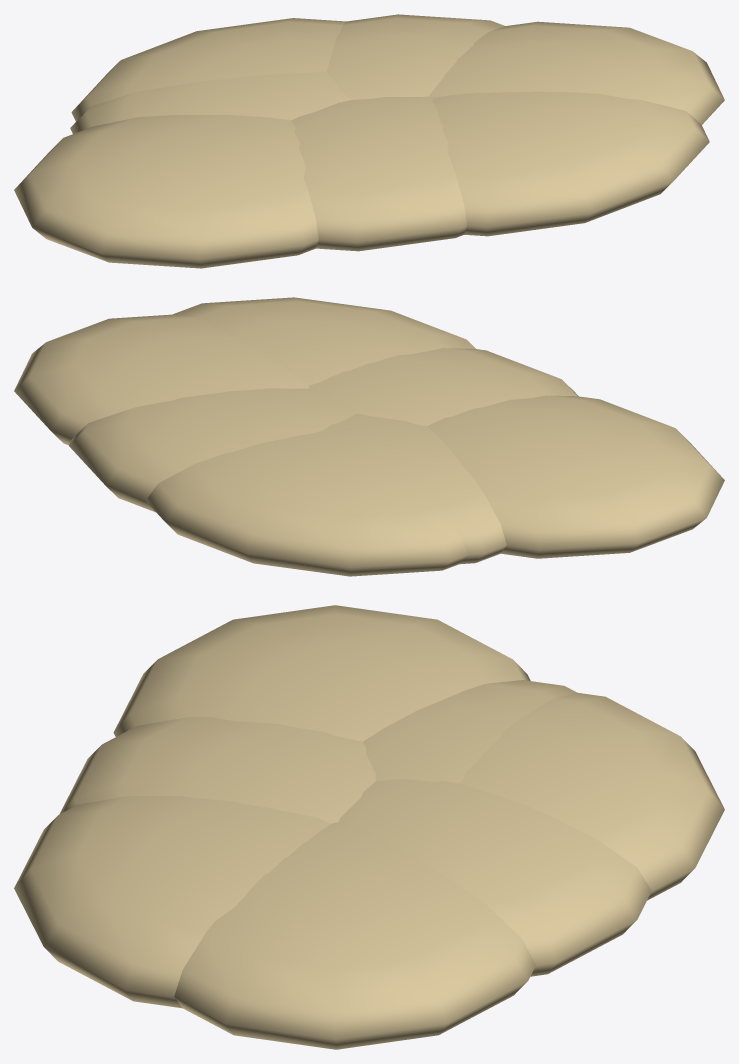
File: wreck-sand.glb
3 views of the same model, one above another, from view 1: azimuth 30°, elevation 25°; view 2: azimuth 150°, elevation 25°; view 3: azimuth 270°, elevation 25° (orthographic). The views are drawn at different scales.
Visible parts, largest first — view 1: wreck-sand; view 2: wreck-sand; view 3: wreck-sand.
Part boxes in pixels (x1,y1,x2,y2): wreck-sand: (14, 14, 724, 268); wreck-sand: (14, 297, 724, 576); wreck-sand: (14, 605, 724, 1049).
Size of the model in its own units: 1.27 by 0.14 by 0.8977.
